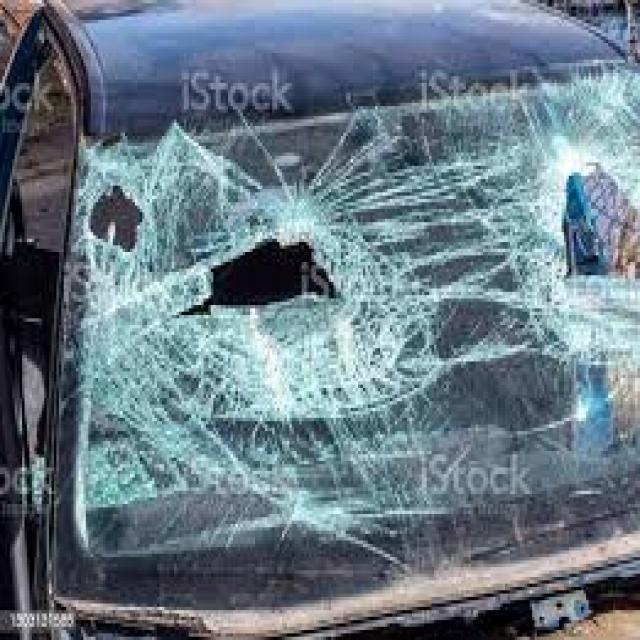damaged-windscreen: (69, 117, 640, 640)
